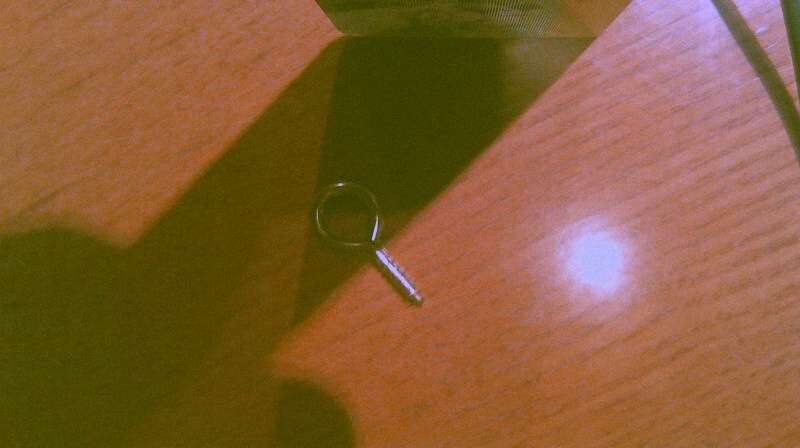O001: (309, 179, 426, 309)
